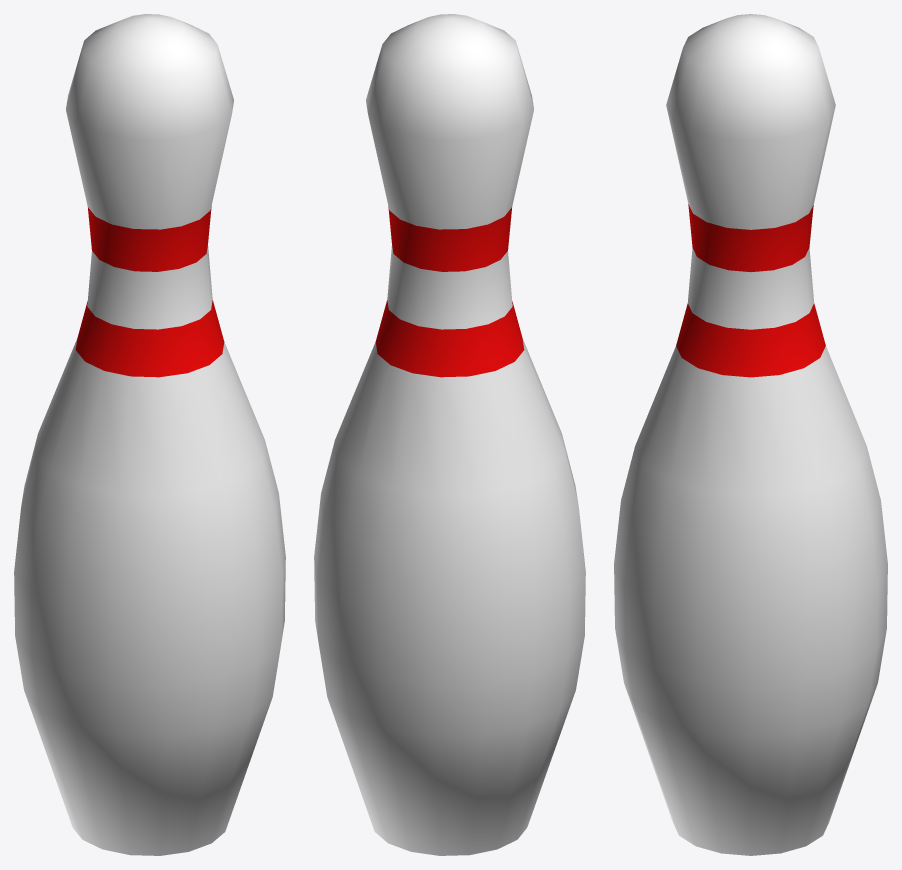
File: Birillo.fbx
3 views of the same model, side by side, from view 1: azimuth 30°, elevation 25°; view 2: azimuth 150°, elevation 25°; view 3: azimuth 270°, elevation 25° (orthographic).
Visible parts, largest first — view 1: Birillo; view 2: Birillo; view 3: Birillo.
Part boxes in pixels (x1,y1,x2,y2): Birillo: (14,14,285,855); Birillo: (314,14,585,855); Birillo: (614,14,887,855).
Bounding box in the file's own units: 0.1397 × 0.4524 × 0.1397.
